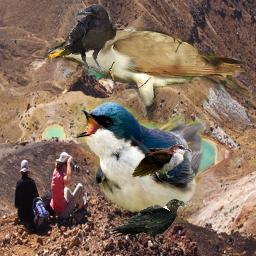Crow: (59, 4, 117, 75), (107, 198, 187, 247)
Cuckoo: (43, 27, 249, 125), (131, 121, 191, 180)
Swallow: (71, 98, 204, 223)
